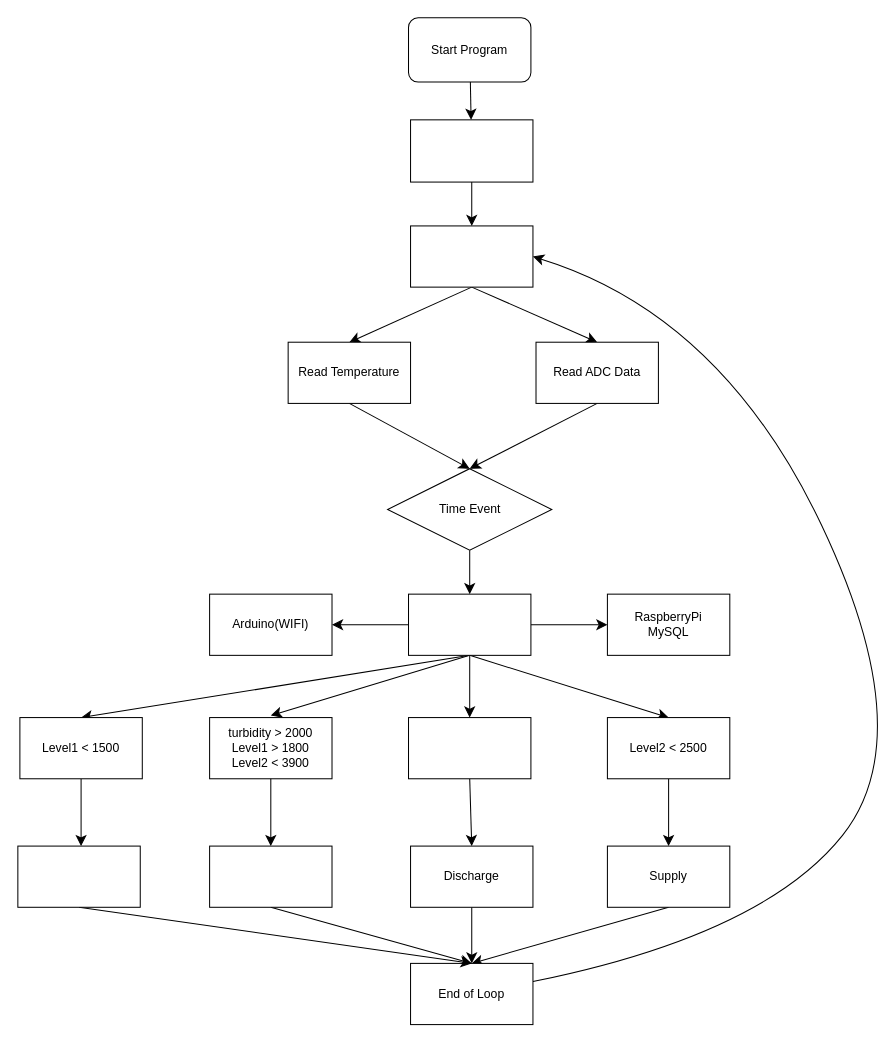
Some shapes in this 896 by 1042 pixel diagram are drawn without their labels. The shapes that lost their labels are listed below. From the top down, each one's centre as x and y in pixels, then its label:
At point (471, 150): "Initialize Program".
At point (471, 256): "Loop".
At point (469, 624): "Send Data".
At point (469, 748): "Level2 > 3900".
At point (78, 876): "Supply Water Shortage".
At point (270, 876): "Cleaning Water".
